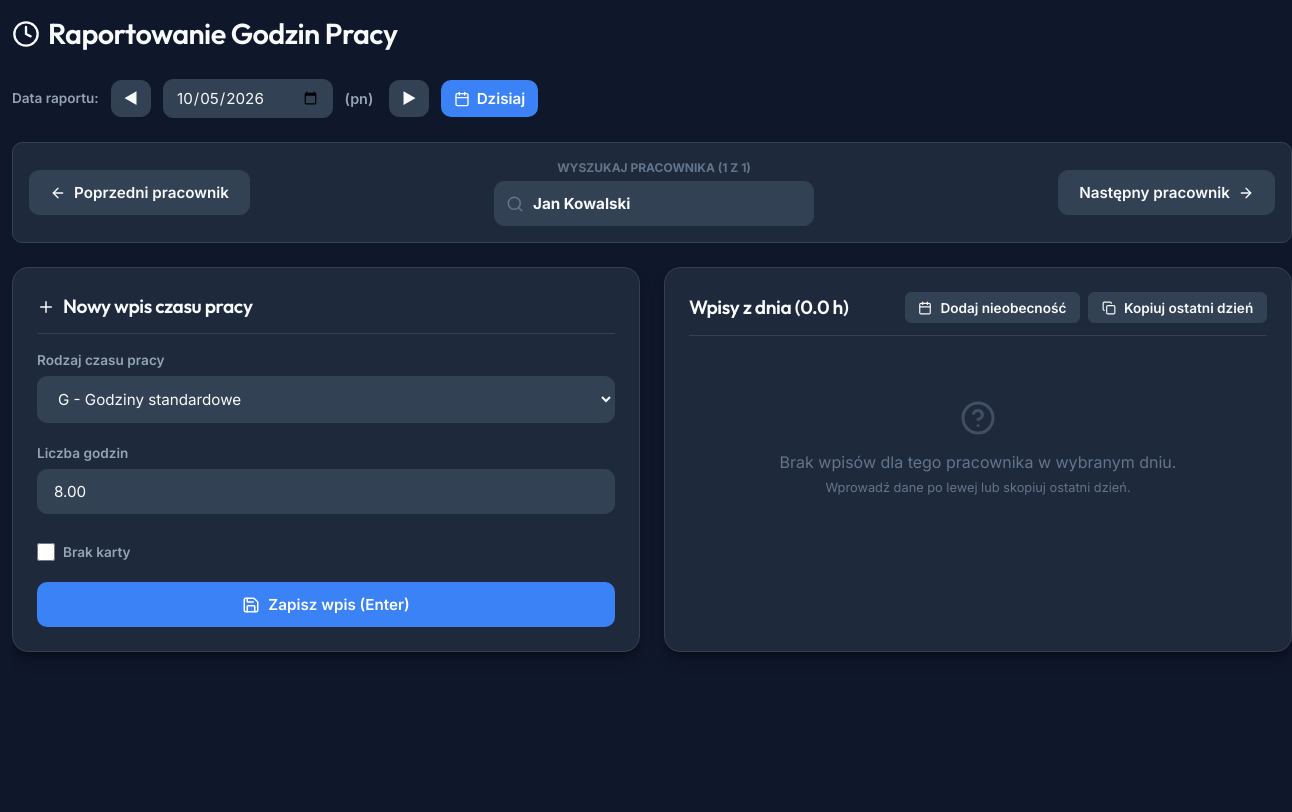
ReportingPanel — kopiowanie ostatniego dnia › pokazuje jednoznaczny komunikat 409 i nie ponawia kopiowania
Expected: the field showing "Jan Kowalski" below "Wyszukaj pracownika (" is shown, [494,181,814,226]
Click the button "Kopiuj ostatni dzień" at (1178, 308), box [1088,292,1267,323]
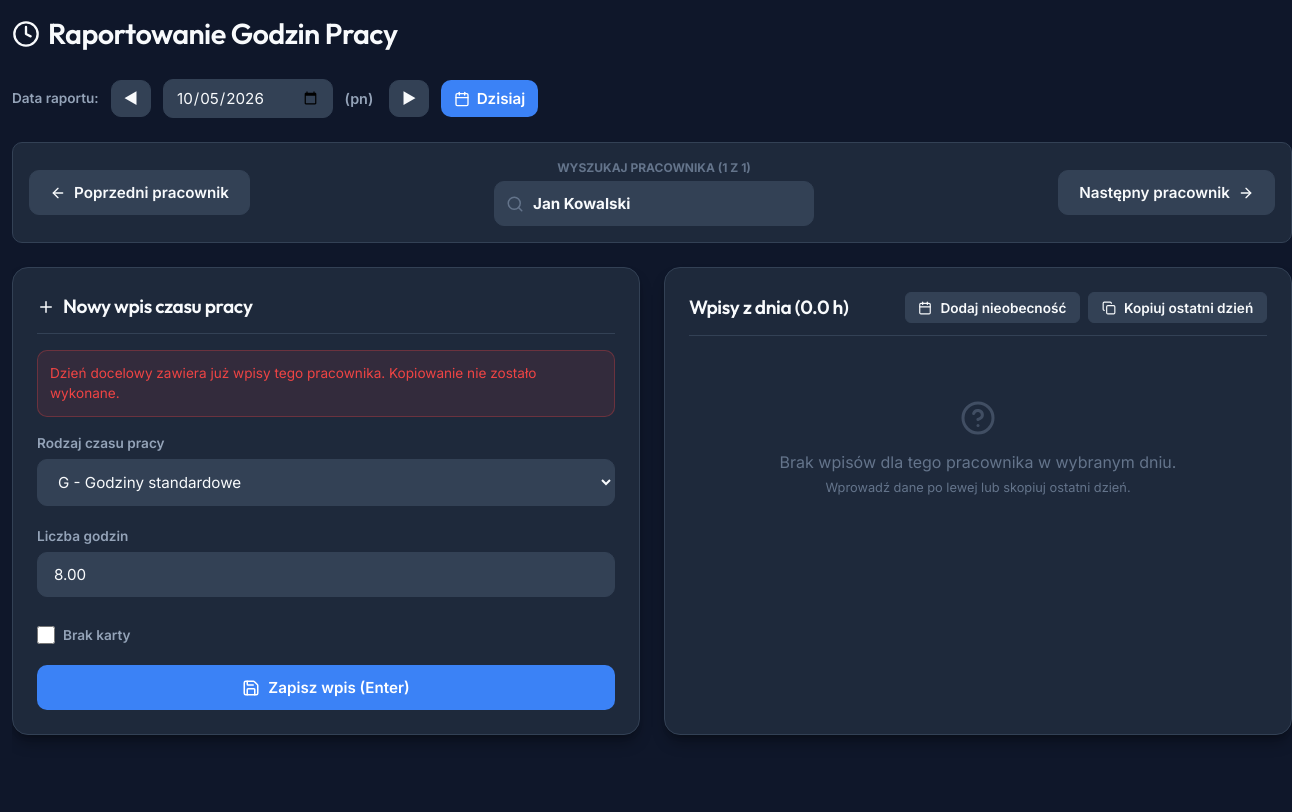
Expected: the text "Dzień docelowy zawiera już wpisy tego pracownika. Kopiowanie nie zostało wykonane." is shown, [50,365,536,401]
